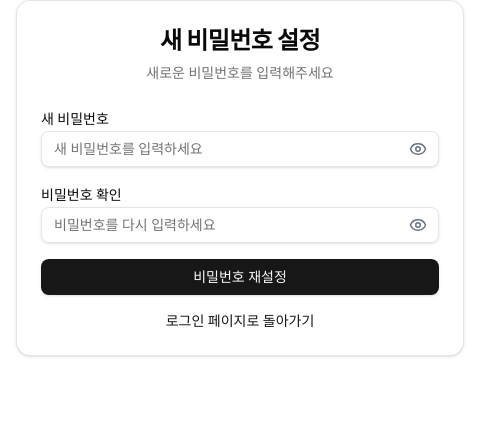
Test: ResetPasswordForm › validates password confirmation
Type "Password123" into the password field labelled "새 비밀번호".
click(240, 149); type("Password123")  # box [41,131,439,167]
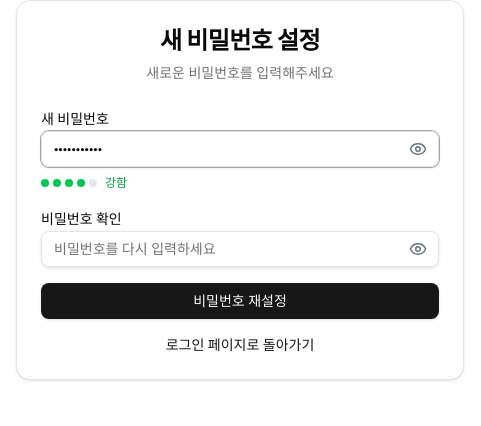
Type "DifferentPassword123" into the password field labelled "비밀번호 확인".
click(240, 249); type("DifferentPassword123")  # box [41,231,439,267]
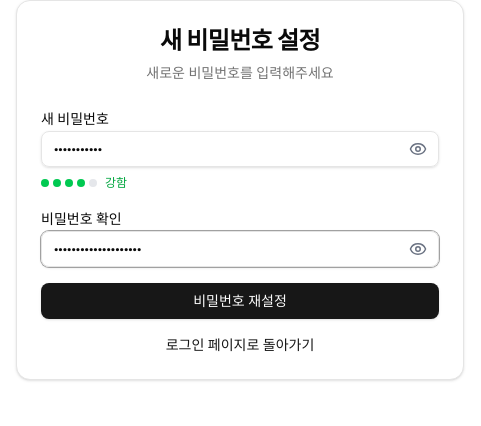
Click the button "비밀번호 재설정".
click(240, 301)  # box [41,283,439,319]
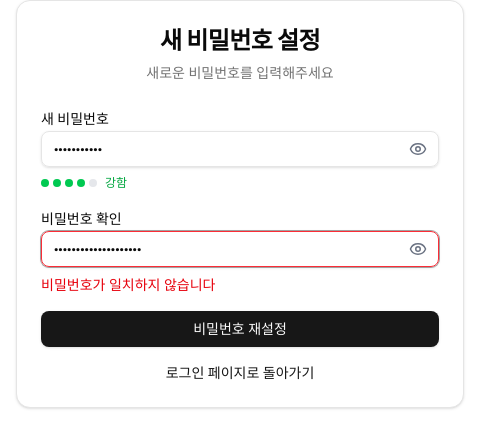
Result: the text "비밀번호가 일치하지 않습니다" is shown at [41,276,216,294]
